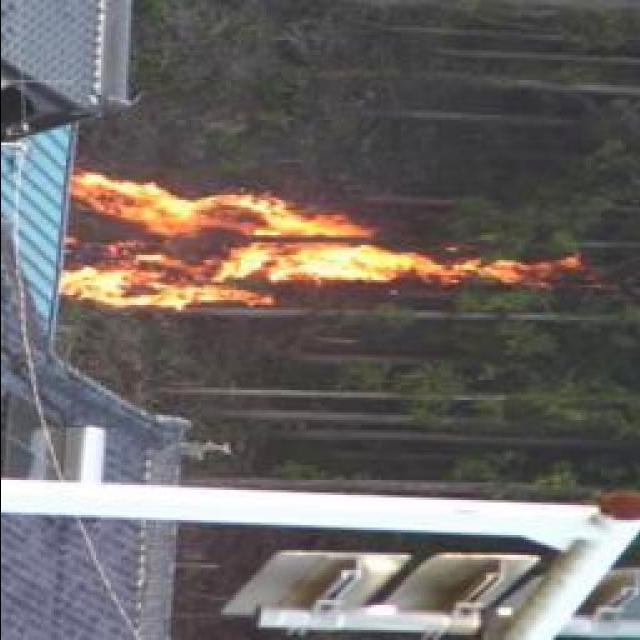Fire: (54, 171, 557, 319)
